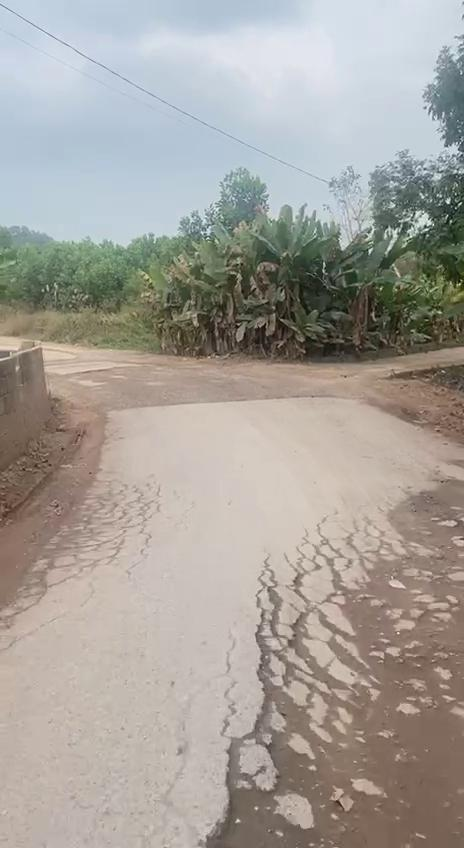pothole: (172, 462, 464, 848)
